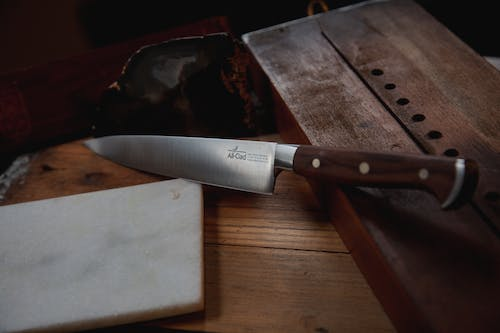knife: (81, 133, 467, 211)
